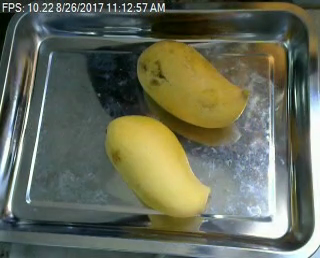Mango: (102, 110, 214, 225), (128, 37, 251, 130)
